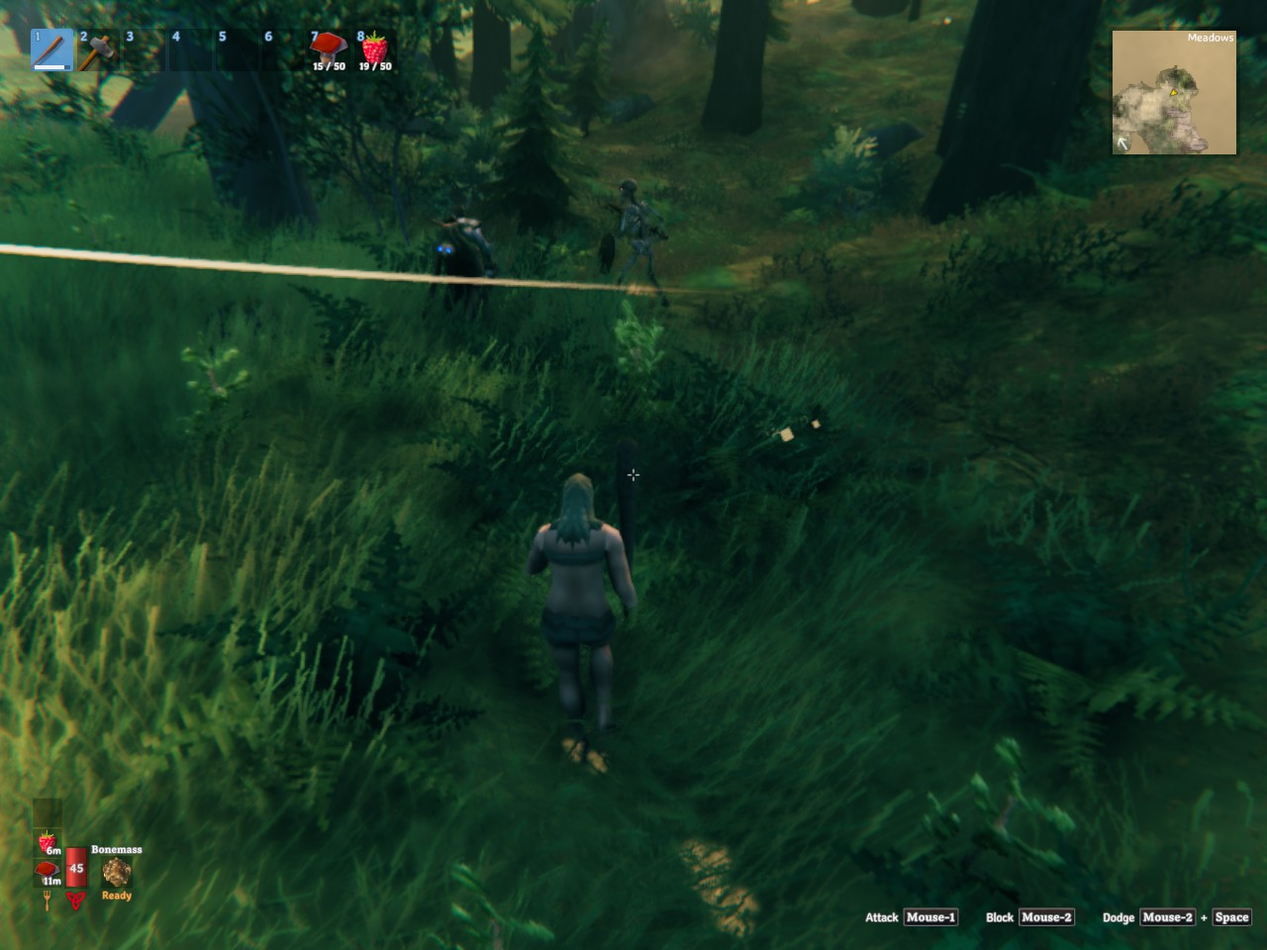Greydwarf: (433, 206, 497, 278), (444, 281, 485, 309)
Skeleton: (617, 179, 667, 305)
